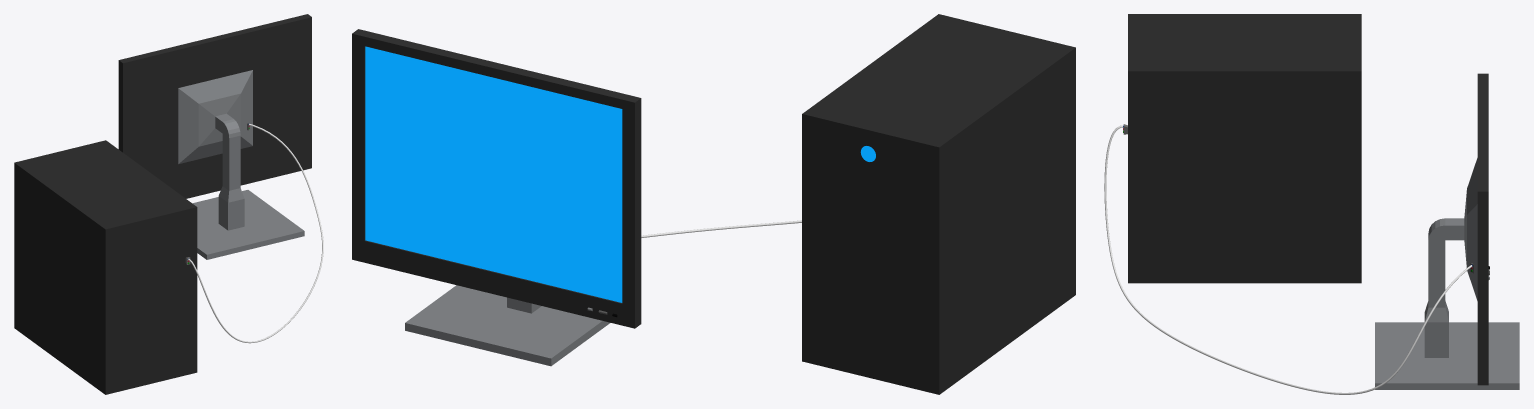
File: Computer.glb
3 views of the same model, side by side, from view 1: azimuth 30°, elevation 25°; view 2: azimuth 150°, elevation 25°; view 3: azimuth 270°, elevation 25° (orthographic). The views are drawn at different scales.
Parts seen in each view (by area): view 1: Case, Ordinateur, Cable; view 2: Case, Ordinateur; view 3: Case, Ordinateur, Cable.
Part boxes in pixels (bbox=[...]): Case: bbox=[14, 140, 197, 394]; Ordinateur: bbox=[118, 14, 311, 259]; Cable: bbox=[188, 123, 323, 343]; Case: bbox=[802, 14, 1075, 394]; Ordinateur: bbox=[352, 29, 641, 366]; Case: bbox=[1128, 14, 1361, 283]; Ordinateur: bbox=[1375, 73, 1519, 389]; Cable: bbox=[1104, 125, 1472, 394].
Size of the model in its own units: 0.4753 by 0.2569 by 0.389.
